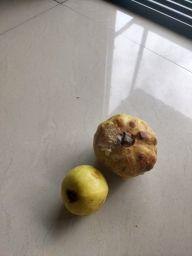guava: (93, 112, 161, 178), (60, 164, 110, 218)
